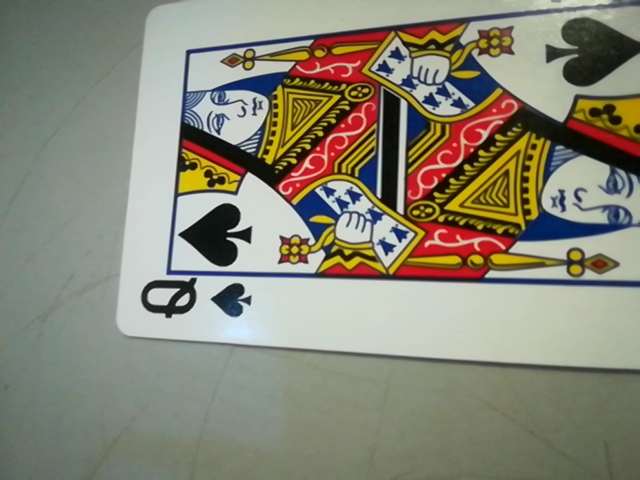ht q: (120, 264, 257, 333)
